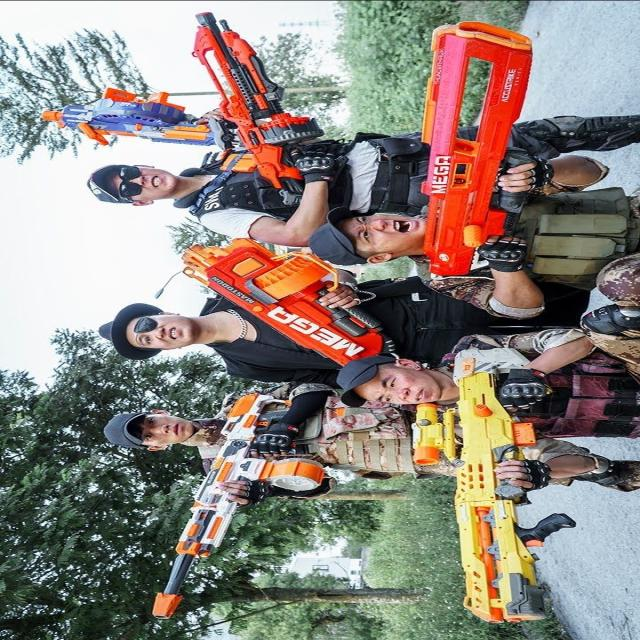Nerf gun: (407, 342, 581, 629), (138, 391, 322, 622), (411, 17, 544, 281), (177, 233, 390, 371), (188, 10, 330, 216), (37, 84, 233, 160)
